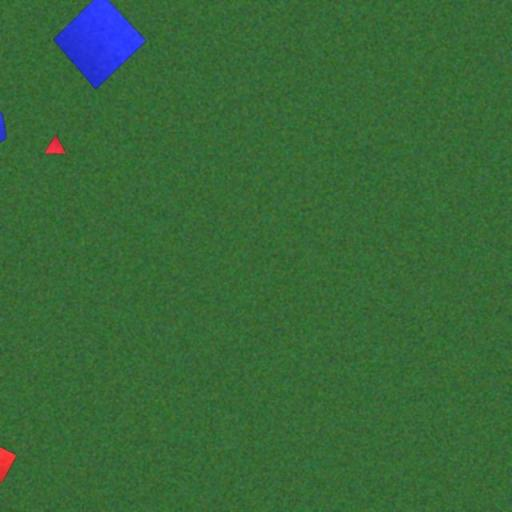BLUE_SQUARE: (52, 0, 147, 90)
RED_SQUARE: (0, 440, 17, 484)
